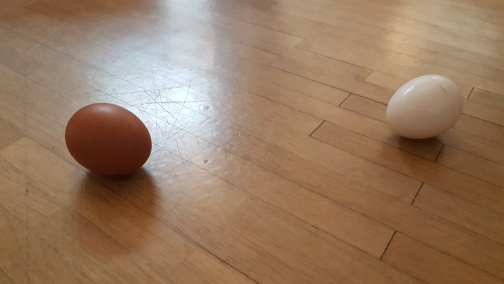egg: (63, 101, 155, 179), (385, 71, 465, 142)
